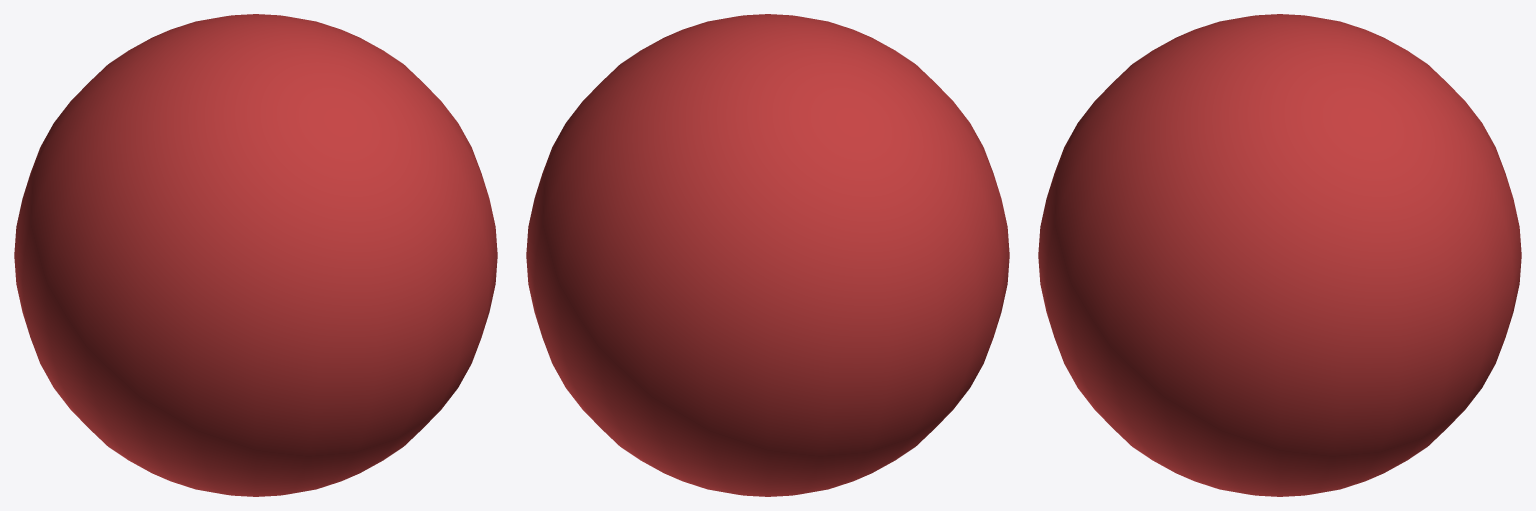
File: spheres.obj
3 renders of one model, left to right at view 1: azimuth 30°, elevation 25°; view 2: azimuth 150°, elevation 25°; view 3: azimuth 270°, elevation 25°, orthographic.
Parts seen in each view (by area): view 1: Sphere; view 2: Sphere; view 3: Sphere.
Boxes of the visible parts, x1=… form: Sphere: x1=14, y1=14, x2=497, y2=496; Sphere: x1=526, y1=14, x2=1009, y2=496; Sphere: x1=1038, y1=14, x2=1521, y2=496.
Size of the model in its own units: 1 by 1 by 1.
